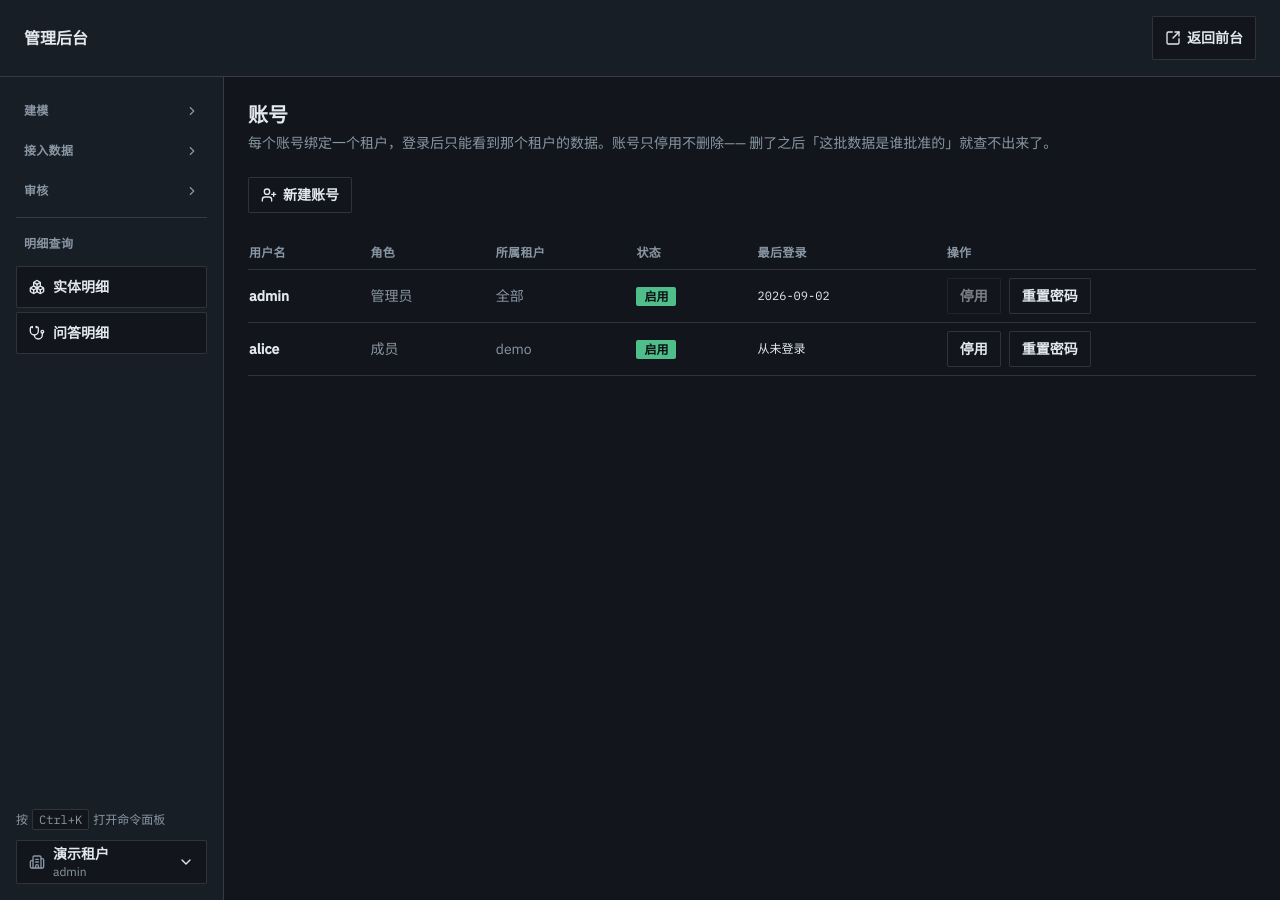
Scenario: 账号页 › 新建账号要选租户
Click the button "新建账号" at [300, 195], box x1=248 y1=177 x2=352 y2=213
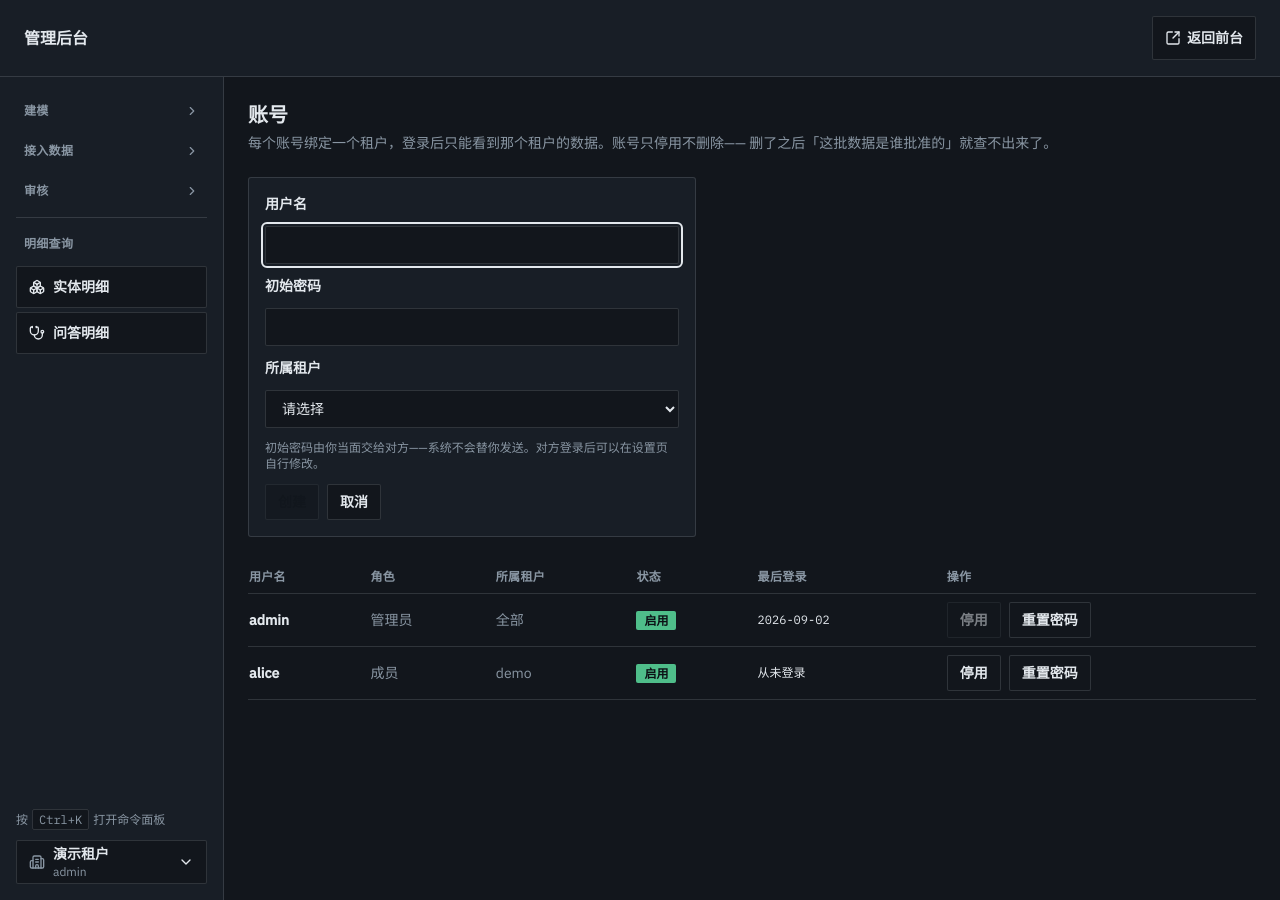
Check: the dropdown labelled "所属租户" is shown, box x1=265 y1=390 x2=679 y2=428
Check: the field labelled "用户名" is shown, box x1=265 y1=226 x2=679 y2=264
Check: the password field labelled "初始密码" is shown, box x1=265 y1=308 x2=679 y2=346
